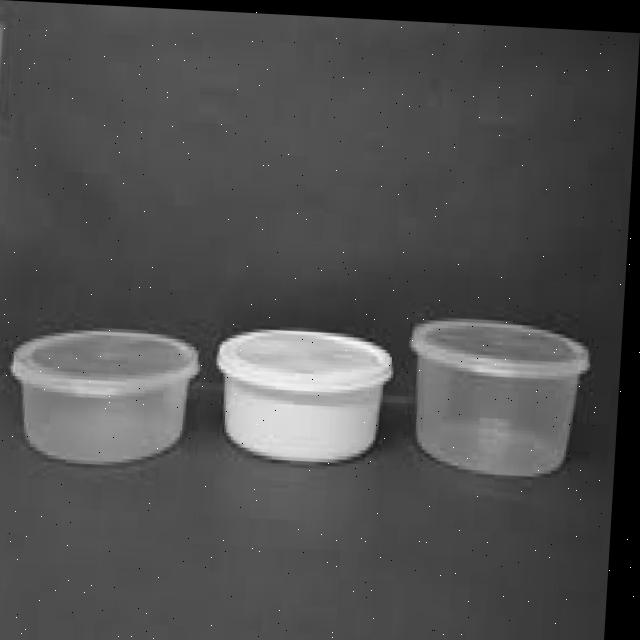disposable: (407, 311, 602, 495), (14, 311, 211, 481), (210, 314, 411, 468)
